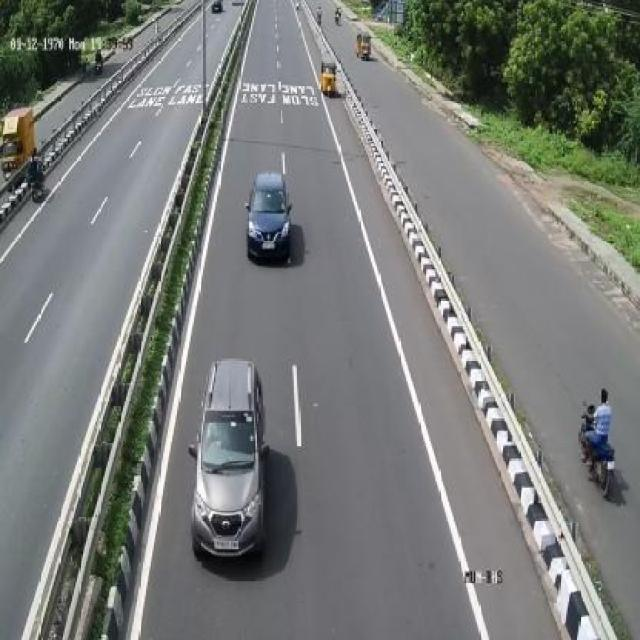car: (192, 348, 272, 566), (246, 165, 297, 263)
